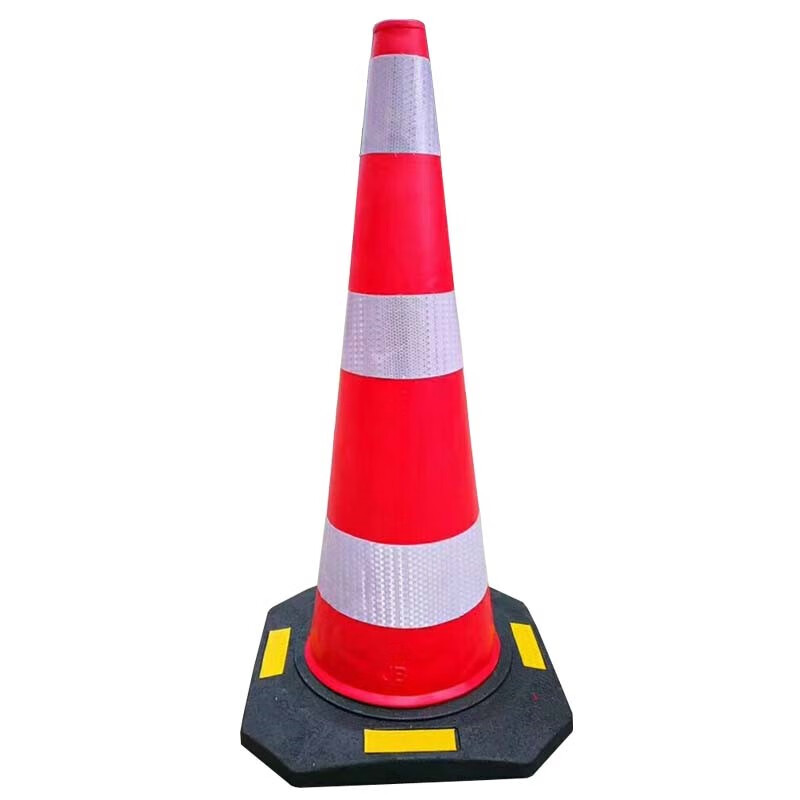traffic_cone: (244, 8, 567, 786)
